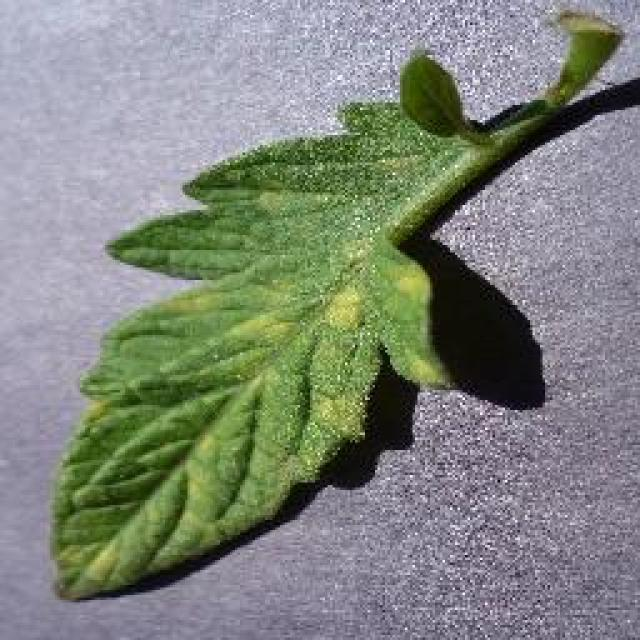Tomato___Leaf_Mold: (52, 10, 620, 595)
